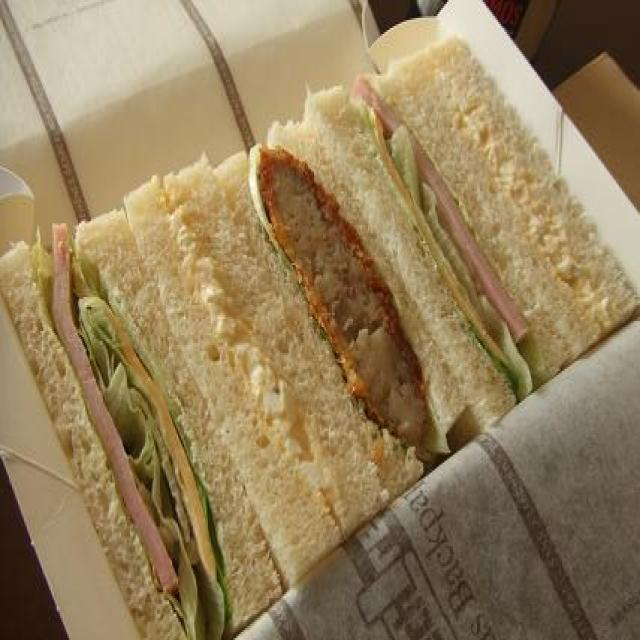三明治: (21, 72, 640, 546)
